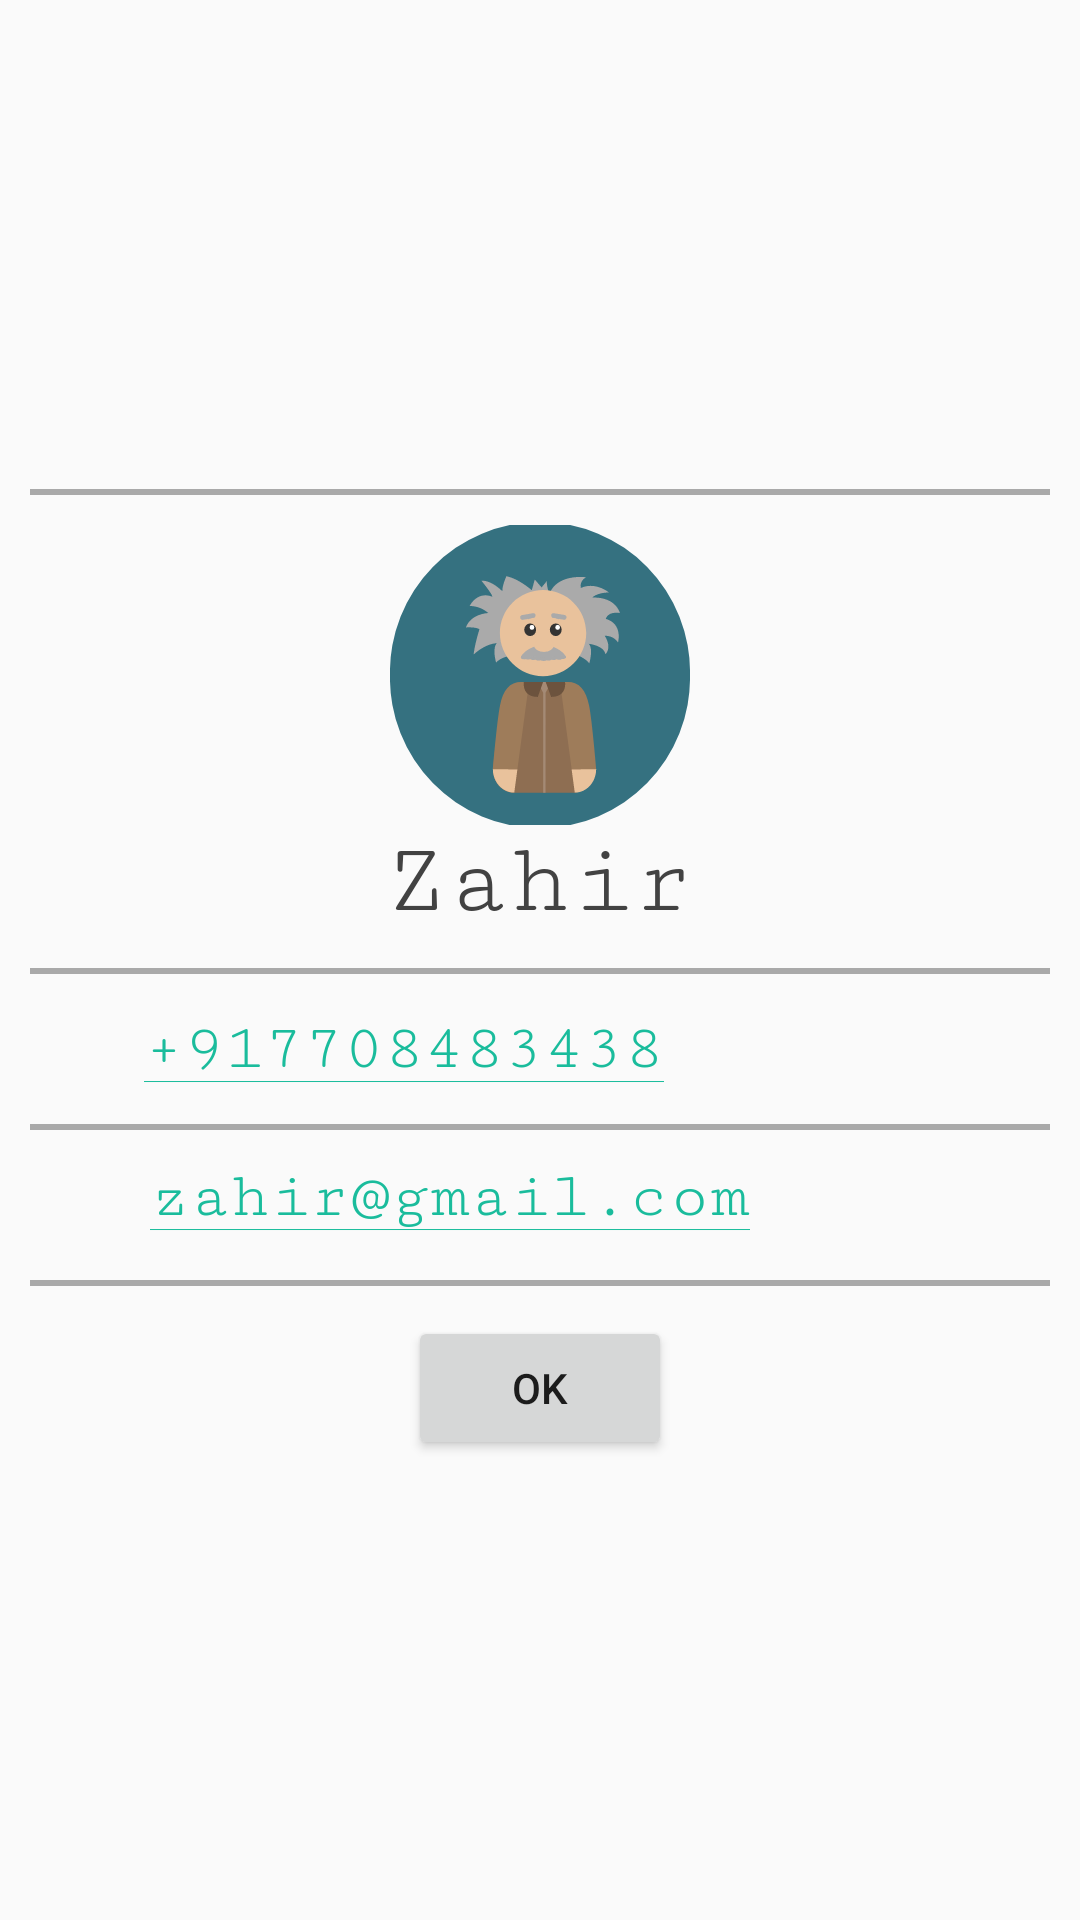

Where to tap for icons on this 1080px×1920px app screen, as [x,y]:
avatarteacher: [540,675]
